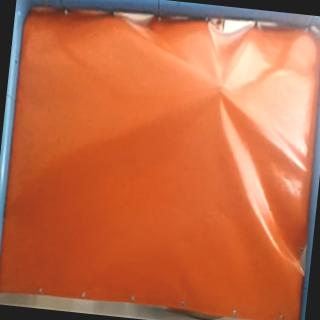Hit-hRxx: (215, 80, 232, 98)
